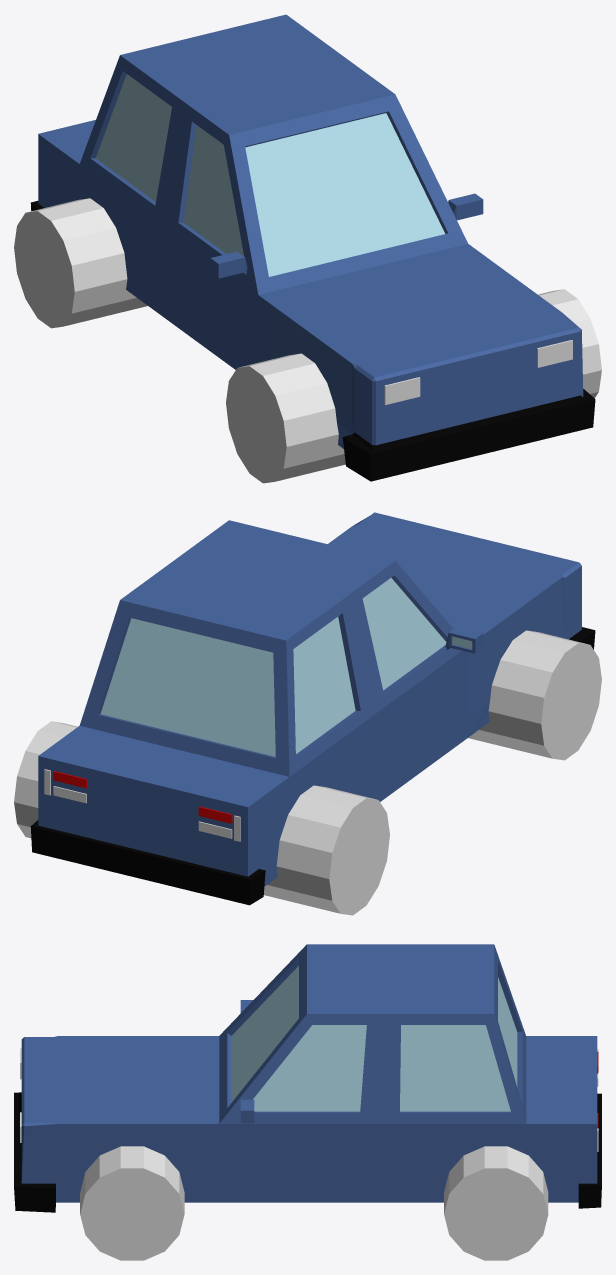
File: Car.fbx
The picture shows the model from 3 angles, top to bottom: view 1: azimuth 30°, elevation 25°; view 2: azimuth 150°, elevation 25°; view 3: azimuth 270°, elevation 25°; orthographic projection. The views are drawn at different scales.
Parts seen in each view (by area): view 1: Body, FrontWheelSlots, RearWheelSlots, Mirrors, HeadLightRight, HeadLightLeft; view 2: Body, RearWheelSlots, FrontWheelSlots, Mirrors, ReverseLights, BrakeLights; view 3: Body, RearWheelSlots, FrontWheelSlots, Mirrors.
Part boxes in pixels (box(x1,y1,x2,y2)): Body: box(30, 14, 595, 481); FrontWheelSlots: box(226, 289, 601, 483); RearWheelSlots: box(14, 198, 147, 328); Mirrors: box(210, 193, 483, 278); HeadLightRight: box(384, 377, 420, 404); HeadLightLeft: box(537, 340, 572, 367); Body: box(30, 512, 595, 905); RearWheelSlots: box(14, 721, 389, 915); FrontWheelSlots: box(468, 630, 601, 760); Mirrors: box(445, 627, 483, 653); ReverseLights: box(53, 786, 232, 838); BrakeLights: box(53, 771, 232, 823); Body: box(14, 944, 601, 1212); RearWheelSlots: box(444, 1146, 548, 1260); FrontWheelSlots: box(80, 1146, 184, 1260); Mirrors: box(240, 1000, 254, 1123).
Bounding box in the file's own units: 3 × 2.28 × 5.65.
